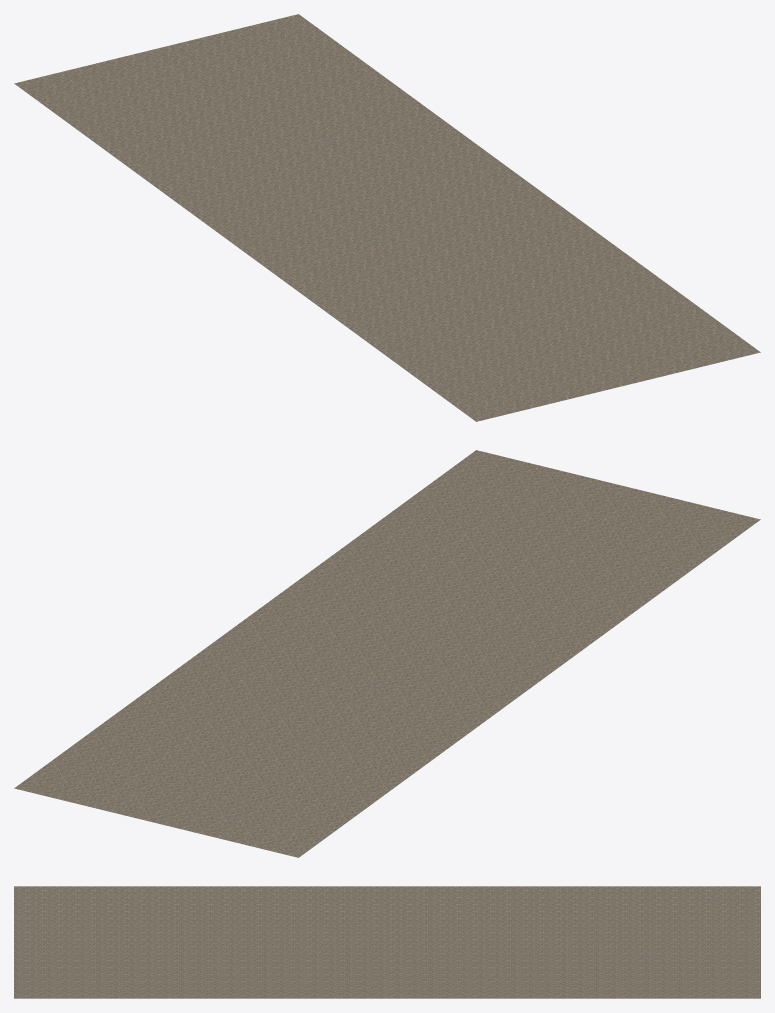
The model's file is Tile18.fbx.
3 renders of one model, top to bottom at view 1: azimuth 30°, elevation 25°; view 2: azimuth 150°, elevation 25°; view 3: azimuth 270°, elevation 25°, orthographic. The views are drawn at different scales.
Parts seen in each view (by area): view 1: Plane.232; view 2: Plane.232; view 3: Plane.232.
Part boxes in pixels (x1,y1,x2,y2): Plane.232: (14, 14, 760, 421); Plane.232: (14, 450, 760, 857); Plane.232: (14, 886, 760, 998).
Size of the model in its own units: 32 by 0 by 90.
720 materials, 720 textured.
